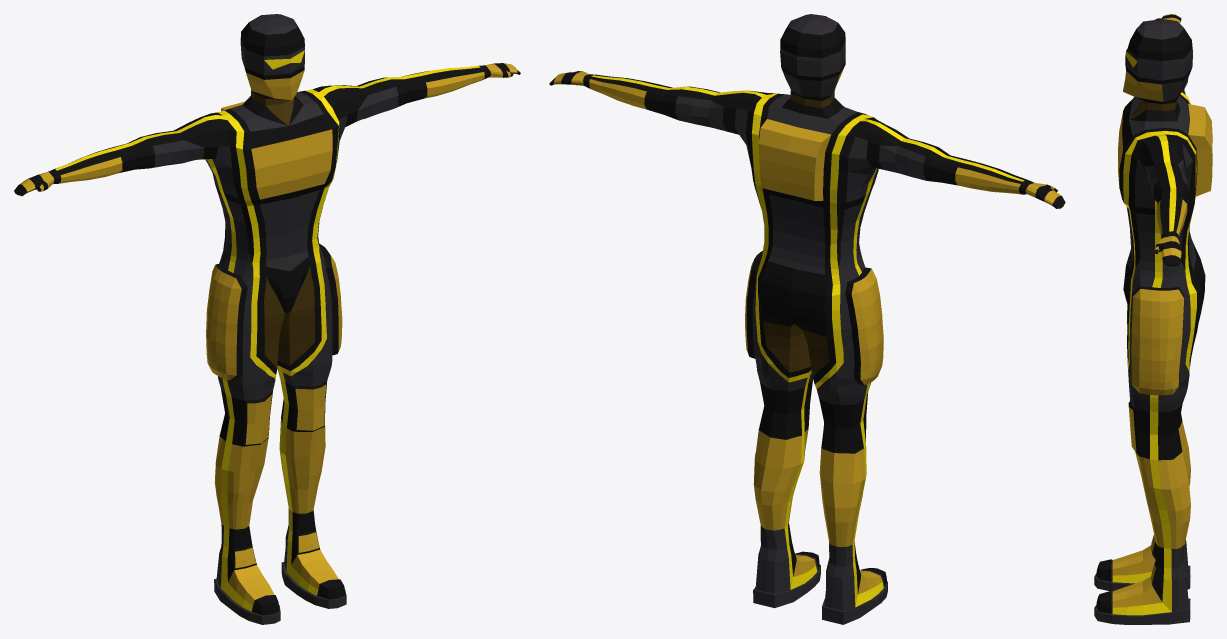
The model's file is MedicClass_PlayerModel_Yellow.obj.
The picture shows the model from 3 angles, left to right: view 1: azimuth 30°, elevation 25°; view 2: azimuth 150°, elevation 25°; view 3: azimuth 270°, elevation 25°; orthographic projection.
Parts seen in each view (by area): view 1: metarig_object_metarig_mesh; view 2: metarig_object_metarig_mesh; view 3: metarig_object_metarig_mesh.
Part boxes in pixels (x1=…): metarig_object_metarig_mesh: x1=14, y1=14, x2=520, y2=624; metarig_object_metarig_mesh: x1=549, y1=14, x2=1065, y2=624; metarig_object_metarig_mesh: x1=1094, y1=14, x2=1212, y2=624.
Bounding box in the file's own units: 1.56 × 1.71 × 0.3168.
